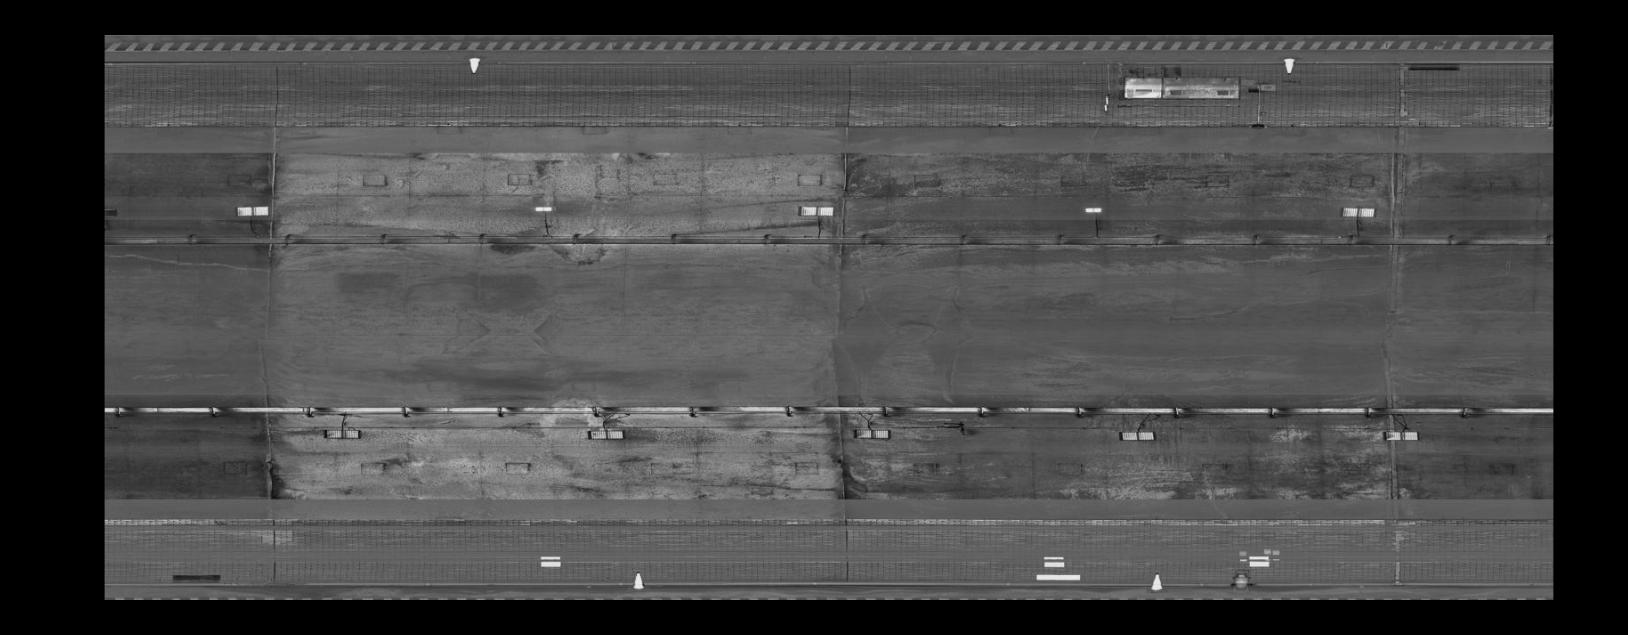light: (1114, 427, 1160, 445), (319, 425, 364, 442), (581, 427, 626, 444), (848, 425, 893, 442), (1379, 427, 1422, 443), (1336, 204, 1378, 220), (230, 202, 271, 217), (796, 203, 837, 218), (1079, 205, 1108, 214), (530, 204, 558, 213)
